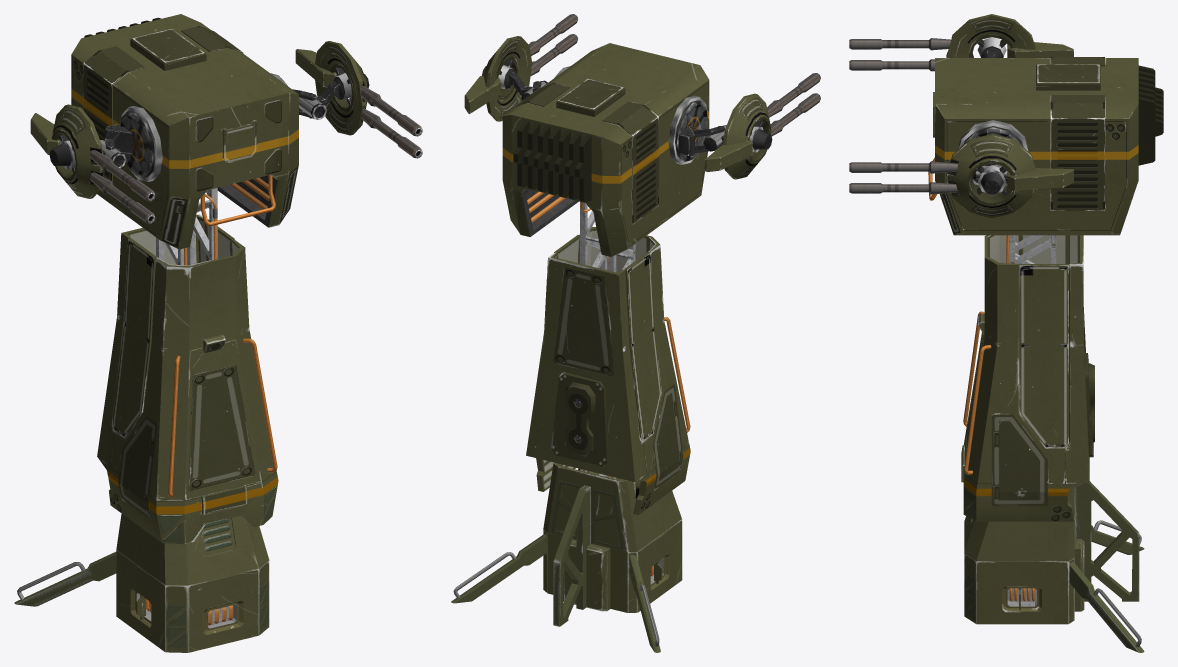
The model's file is turret_tower_06.fbx.
3 renders of one model, left to right at view 1: azimuth 30°, elevation 25°; view 2: azimuth 150°, elevation 25°; view 3: azimuth 270°, elevation 25°, orthographic. The views are drawn at different scales.
Parts seen in each view (by area): view 1: body (×3), head, tower_base, tower_body_door_right, barrels (×2), tower_head_door_right, decor3, tower_leg, decor (×2), body_frame, holder, tower_head_door_center (+3 smaller); view 2: body (×3), head, tower_base, decor3, tower_leg, tower_body_door_right, tower_body_door_rear, tower_head_door_right, barrels (×2), body_frame, holder, decor (+2 smaller); view 3: body (×3), head, tower_base, tower_body_door_left, tower_head_door_left, tower_leg, barrels (×2), decor3, body_frame, tower_body_door_right, tower_body_door_rear, decor2.
Part boxes in pixels (x1,y1,x2,y2): body (×3): [30, 41, 369, 544]; head: [71, 14, 298, 249]; tower_base: [116, 514, 269, 652]; tower_body_door_right: [112, 238, 156, 437]; barrels (×2): [90, 85, 422, 223]; tower_head_door_right: [83, 46, 145, 181]; decor3: [84, 17, 206, 70]; tower_leg: [14, 552, 116, 606]; decor (×2): [105, 124, 275, 226]; body_frame: [156, 188, 217, 265]; holder: [120, 110, 155, 178]; tower_head_door_center: [222, 121, 256, 162]; body (×3): [464, 36, 772, 514]; head: [502, 43, 709, 256]; tower_base: [543, 462, 682, 612]; decor3: [513, 79, 625, 202]; tower_leg: [451, 485, 660, 652]; tower_body_door_right: [624, 252, 661, 440]; tower_body_door_rear: [551, 373, 608, 466]; tower_head_door_right: [602, 101, 658, 224]; barrels (×2): [529, 14, 820, 136]; body_frame: [580, 201, 635, 495]; holder: [675, 100, 708, 161]; decor: [678, 126, 724, 155]; body (×3): [946, 14, 1089, 521]; head: [935, 58, 1138, 235]; tower_base: [964, 487, 1084, 624]; tower_body_door_left: [1019, 264, 1068, 448]; tower_head_door_left: [1050, 95, 1104, 210]; tower_leg: [1069, 481, 1144, 652]; barrels (×2): [849, 38, 958, 194]; decor3: [1036, 64, 1163, 165]; body_frame: [1006, 235, 1056, 263]; tower_body_door_right: [1019, 235, 1068, 263]; tower_body_door_rear: [1085, 353, 1094, 457]; decor2: [958, 120, 1029, 185].
Size of the model in its own units: 9.31 by 15.97 by 8.65.
